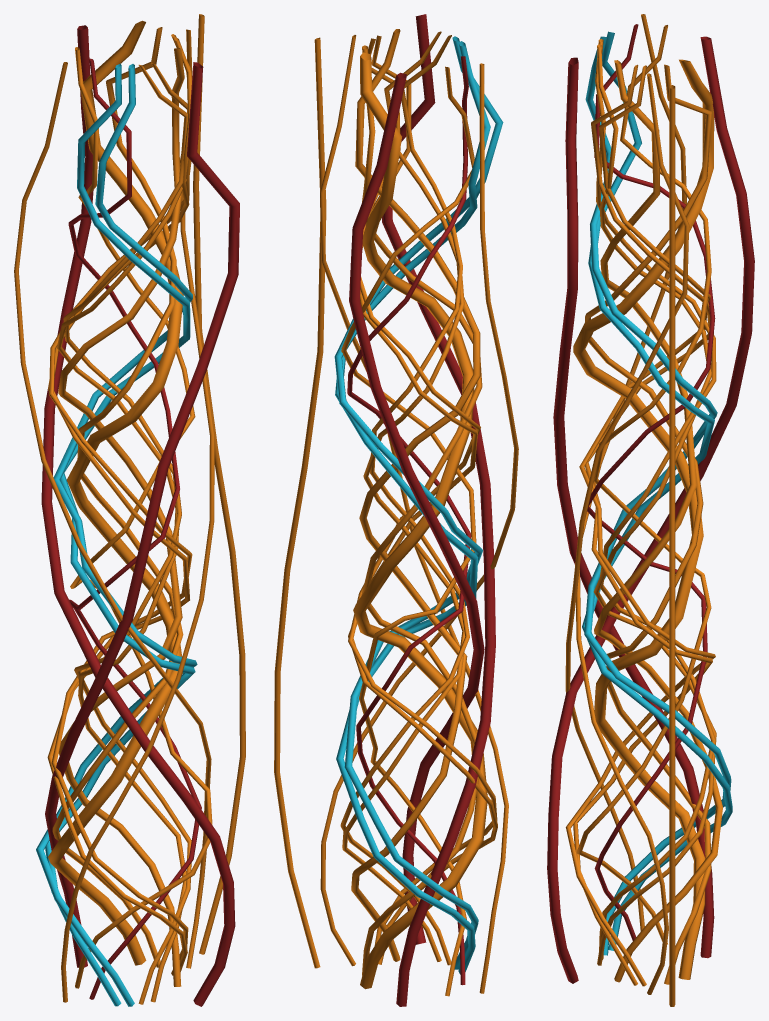
Rendered from v cable lod0.FBX.
The picture shows the model from 3 angles, left to right: view 1: azimuth 30°, elevation 25°; view 2: azimuth 150°, elevation 25°; view 3: azimuth 270°, elevation 25°; orthographic projection. The views are drawn at different scales.
Visible parts, largest first — view 1: Line022; view 2: Line022; view 3: Line022.
Boxes of the visible parts, x1=… form: Line022: x1=14, y1=14, x2=245, y2=1006; Line022: x1=274, y1=14, x2=518, y2=1006; Line022: x1=547, y1=14, x2=754, y2=1006.
Bounding box in the file's own units: 1.02 × 4.02 × 0.8204.
